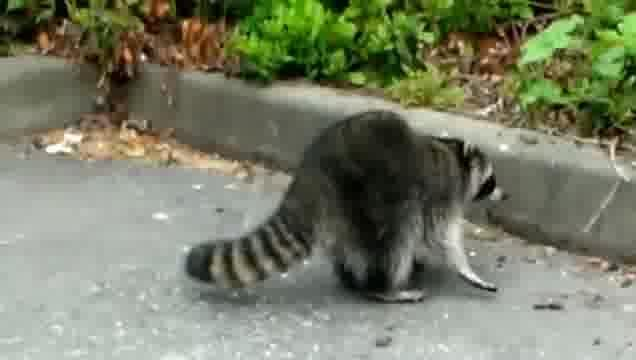raccoon: (182, 103, 512, 307)
